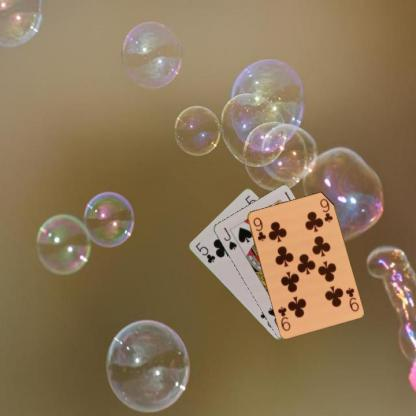5c: (192, 239, 216, 264)
9c: (250, 214, 267, 242), (343, 285, 360, 312)
Js: (221, 225, 238, 251)
